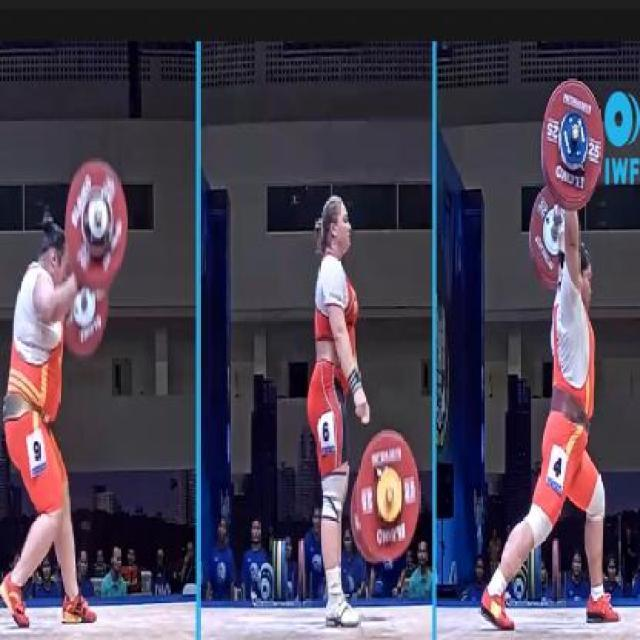barbell: (537, 69, 611, 220), (350, 420, 424, 569), (64, 151, 133, 294)
